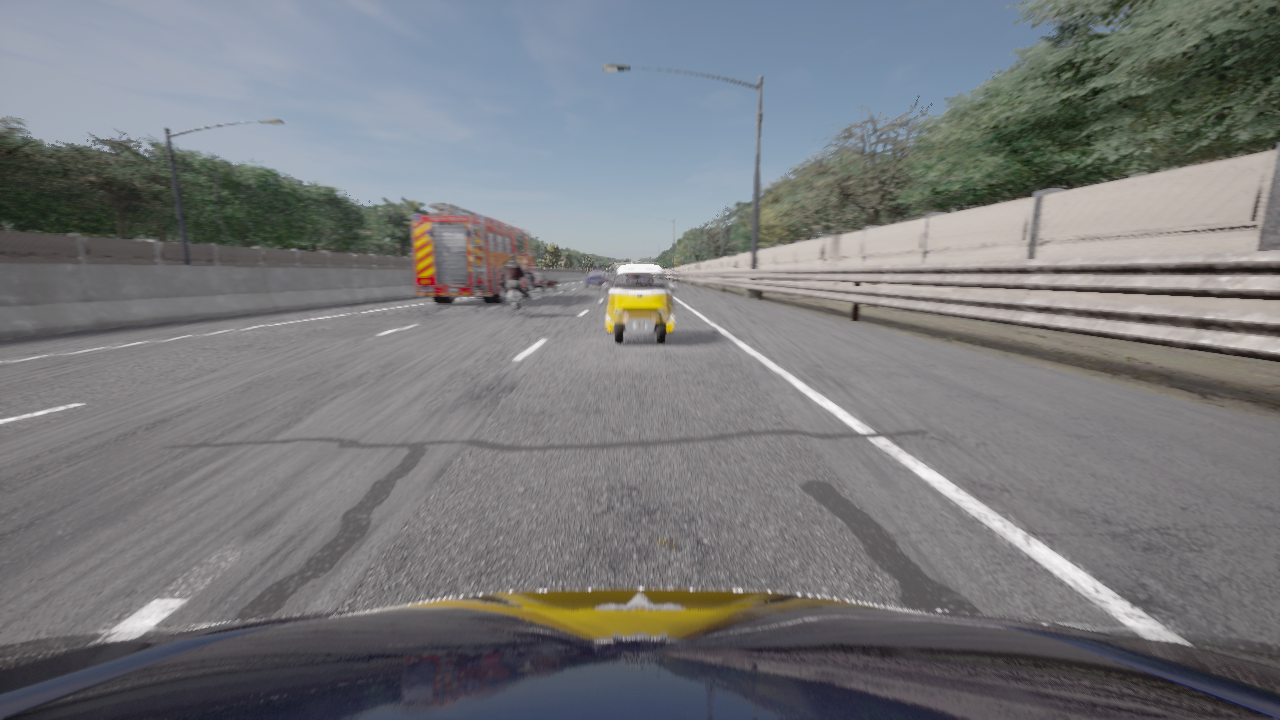cyclist: (0, 588, 1279, 719), (412, 202, 537, 302), (603, 265, 676, 343), (532, 272, 558, 291), (585, 271, 611, 288), (508, 288, 523, 317)
